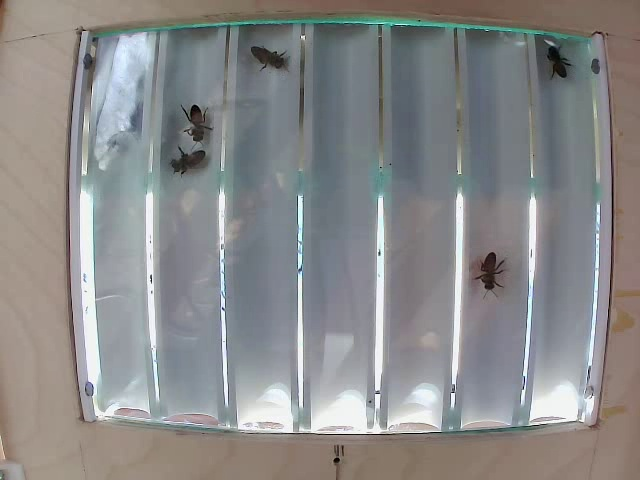bee: (478, 246, 521, 289), (170, 143, 205, 189), (257, 37, 289, 74), (176, 106, 210, 140), (544, 51, 570, 88)
